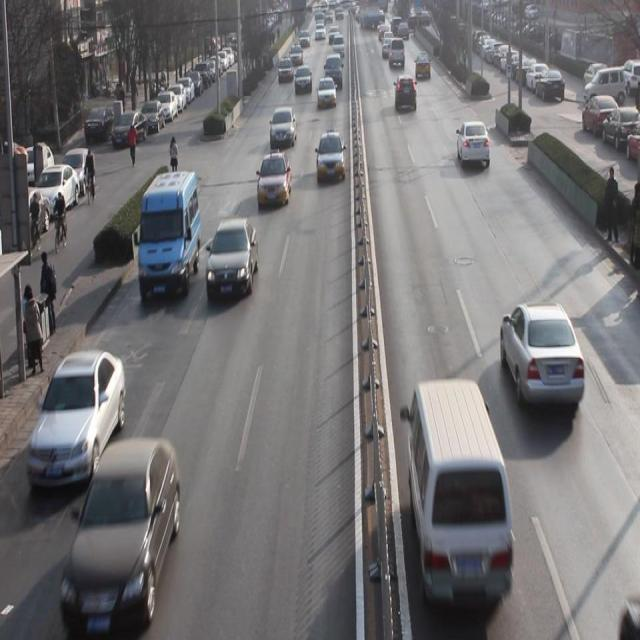car: (61, 441, 180, 629), (27, 354, 126, 488), (498, 303, 586, 413), (205, 219, 257, 301), (257, 151, 293, 209), (456, 119, 491, 171), (316, 133, 345, 186), (270, 104, 298, 150), (396, 74, 418, 113), (316, 79, 336, 112), (294, 67, 314, 98), (278, 58, 296, 84)
truck: (404, 390, 518, 596), (138, 171, 202, 304), (324, 56, 343, 92)
